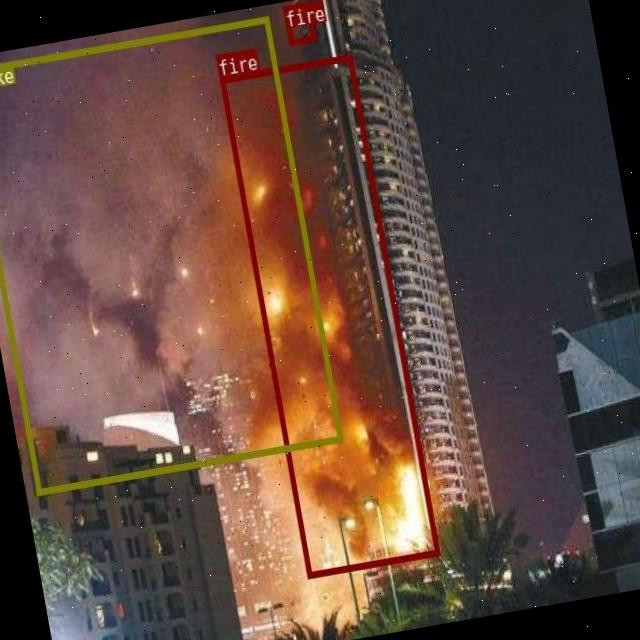fire: (220, 54, 440, 578), (282, 1, 315, 44)
smoke: (0, 15, 342, 493)
